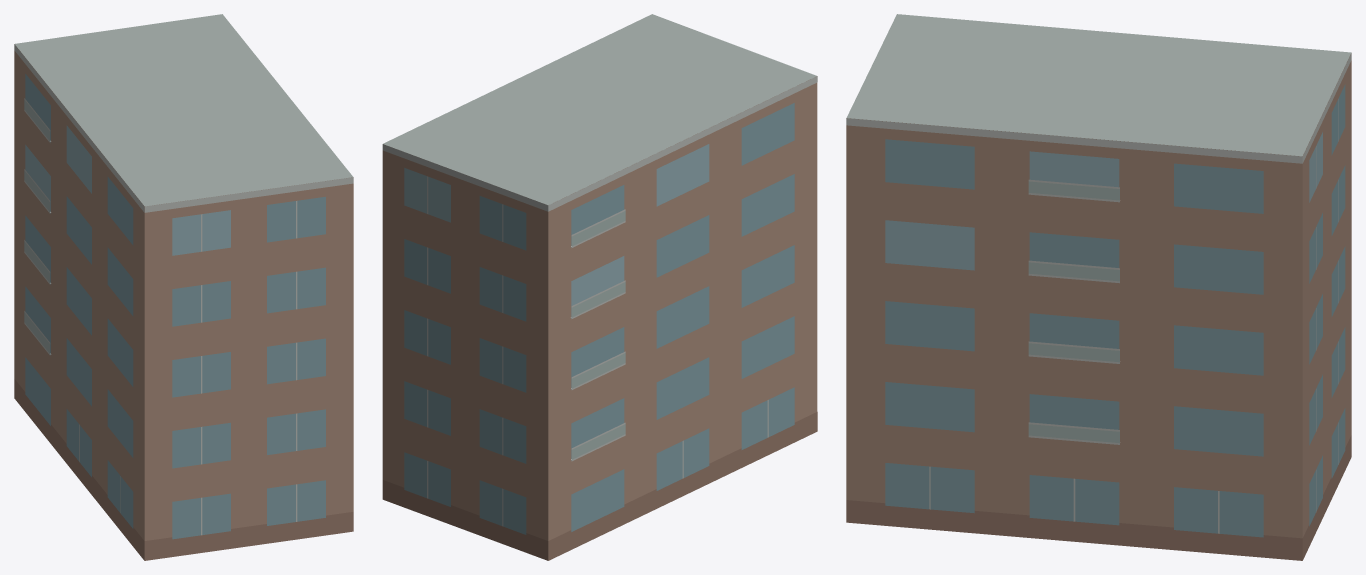
The model's file is survey-upis-32885881.glb.
The picture shows the model from 3 angles, left to right: view 1: azimuth 30°, elevation 25°; view 2: azimuth 150°, elevation 25°; view 3: azimuth 270°, elevation 25°; orthographic projection. The views are drawn at different scales.
Visible parts, largest first — view 1: survey-upis-32885881.tmp; view 2: survey-upis-32885881.tmp; view 3: survey-upis-32885881.tmp.
Boxes of the visible parts, box(x1,y1,x2,y2) form: survey-upis-32885881.tmp: box(14, 14, 353, 560); survey-upis-32885881.tmp: box(382, 14, 817, 560); survey-upis-32885881.tmp: box(846, 14, 1351, 560).
Bounding box in the file's own units: 10.16 × 13.45 × 15.23.
